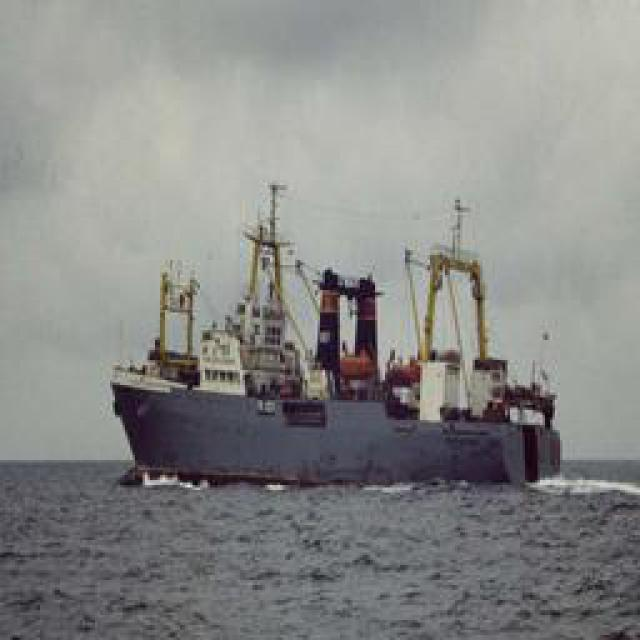Ship: (107, 168, 570, 493)
